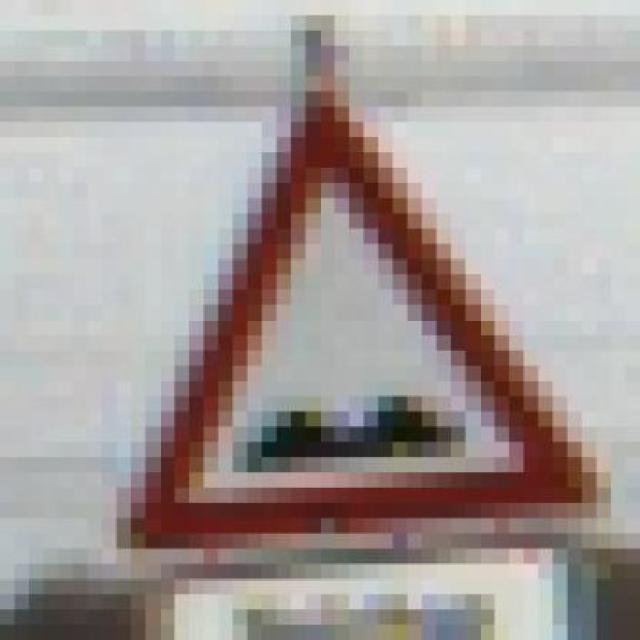Uneven Road: (87, 91, 611, 548)
